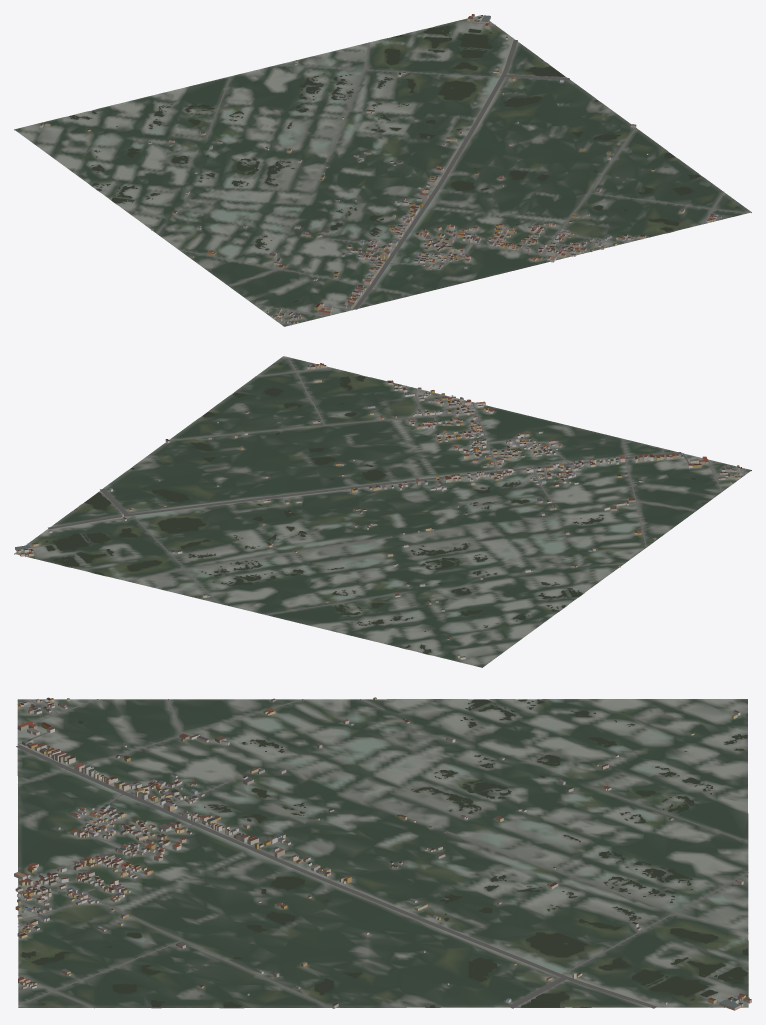
3 views of the same model, one above another, from view 1: azimuth 30°, elevation 25°; view 2: azimuth 150°, elevation 25°; view 3: azimuth 270°, elevation 25° (orthographic). The views are drawn at different scales.
Parts seen in each view (by area): view 1: ground, water, buildings, roads; view 2: ground, buildings, water, roads; view 3: ground, buildings, water, roads.
Boxes of the visible parts, box(x1,y1,x2,y2) form: ground: box(14, 15, 751, 326); water: box(69, 25, 738, 302); buildings: box(40, 14, 721, 324); roads: box(157, 21, 746, 324); ground: box(14, 356, 751, 667); buildings: box(15, 362, 743, 659); water: box(45, 363, 695, 654); roads: box(27, 357, 744, 614); ground: box(17, 699, 748, 1008); buildings: box(14, 697, 751, 1010); water: box(21, 699, 747, 1007); roads: box(16, 699, 748, 1008).
Size of the model in its own units: 1417 by 17.1 by 1417.
